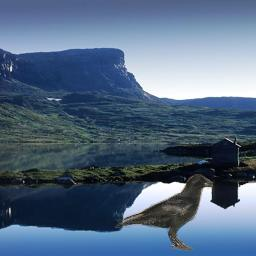Crow: (115, 174, 213, 251)
